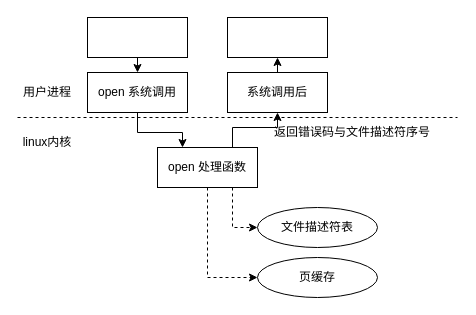
This 476x315 diagram has some shape labels left out. The centre of each missing label's shape, as x and y in pixels:
"POSIX接口后" goes at point (277, 37).
"POSIX接口调用" goes at point (137, 37).
